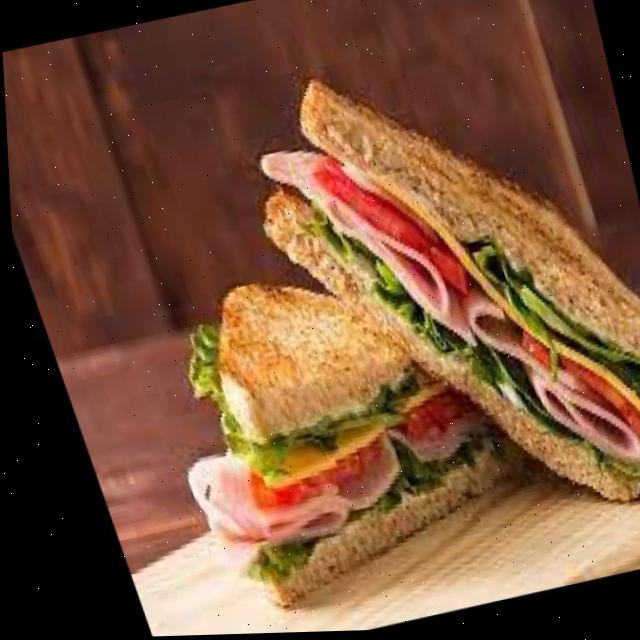Wet: (166, 83, 640, 626)
